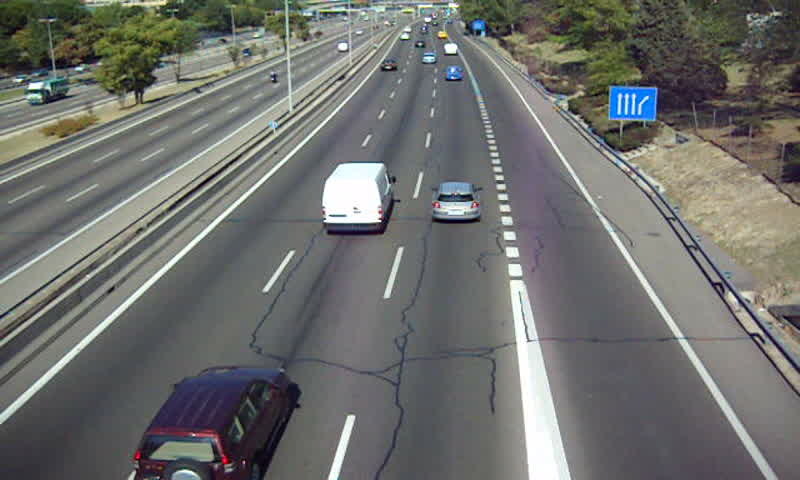car: (134, 366, 287, 480), (433, 182, 479, 221), (444, 64, 463, 82), (420, 51, 438, 66), (378, 59, 396, 72)
van: (322, 163, 394, 235)
